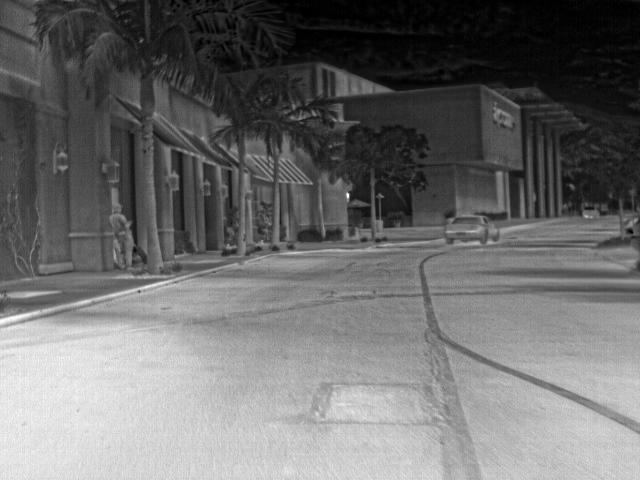car: (444, 214, 501, 244), (624, 214, 640, 253), (582, 206, 598, 220)
person: (108, 202, 131, 269)
